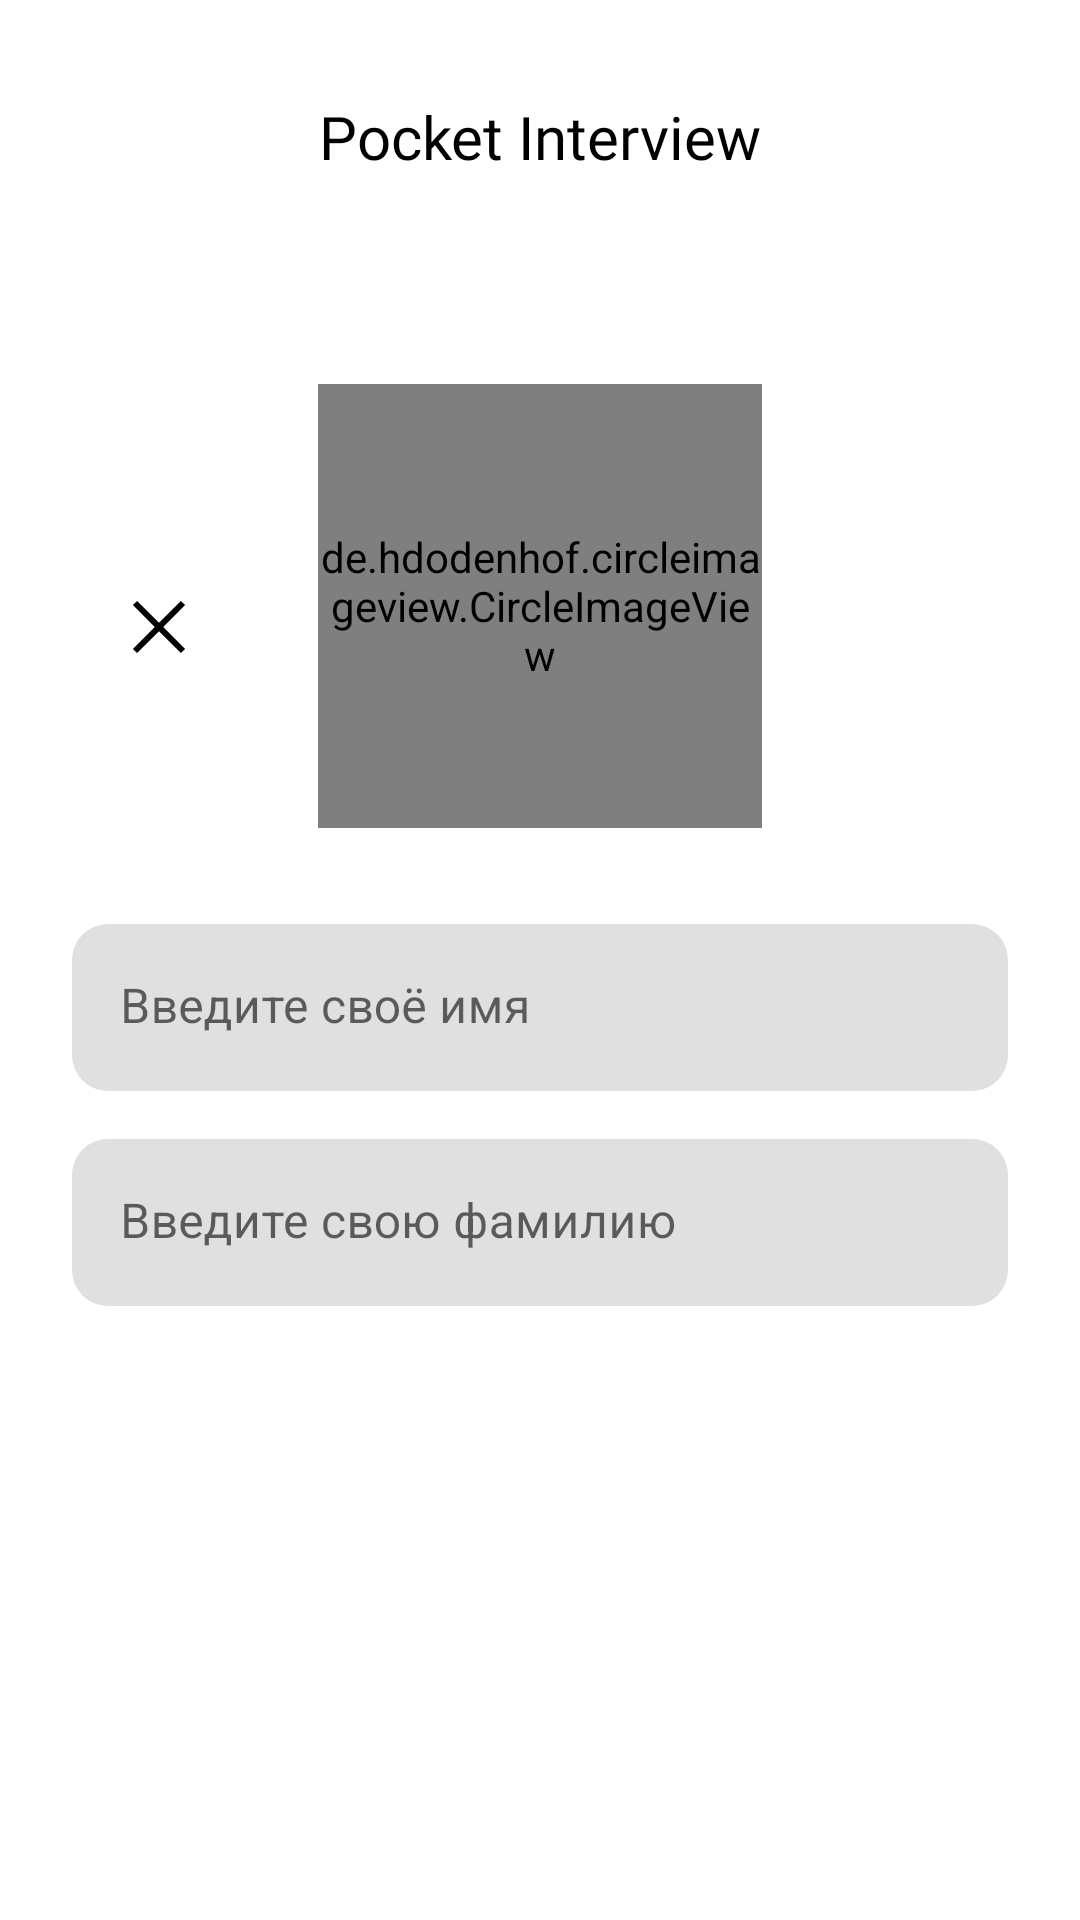

Icon click points for this 1080*1920 phone screenshot, format (x=x, y=y):
close: (x=159, y=627)
